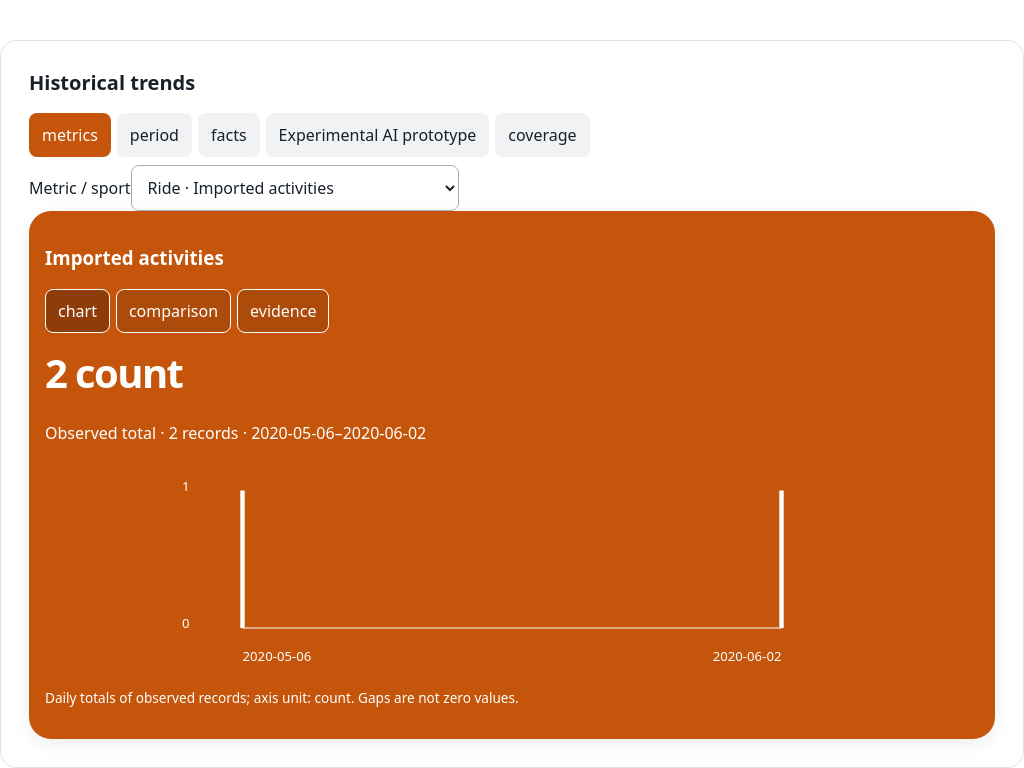
Test: factual private trends › compact tabs page metrics and every evidence record without initiating model work
Select "Wellness · Weight" in the dropdown labelled "Metric / sport" at (295, 188), box left=131, top=165, right=459, bottom=211
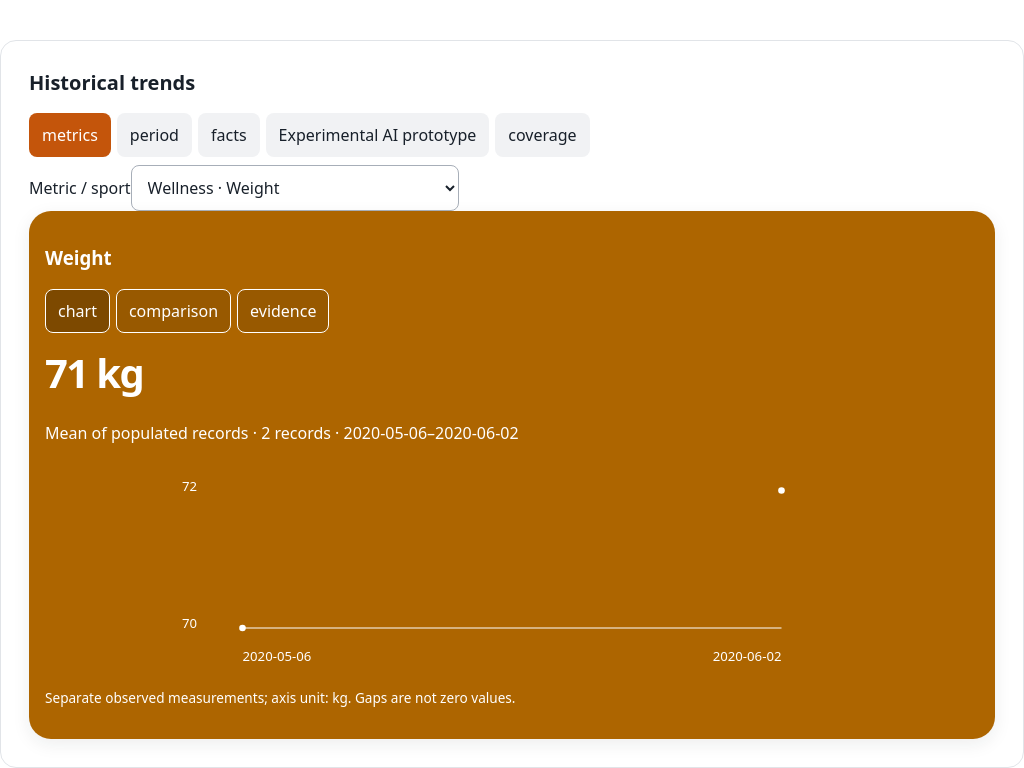
Now the text "71 kg" is shown, box left=45, top=345, right=143, bottom=400
Click the button "evidence" at (283, 311), box left=237, top=289, right=329, bottom=333
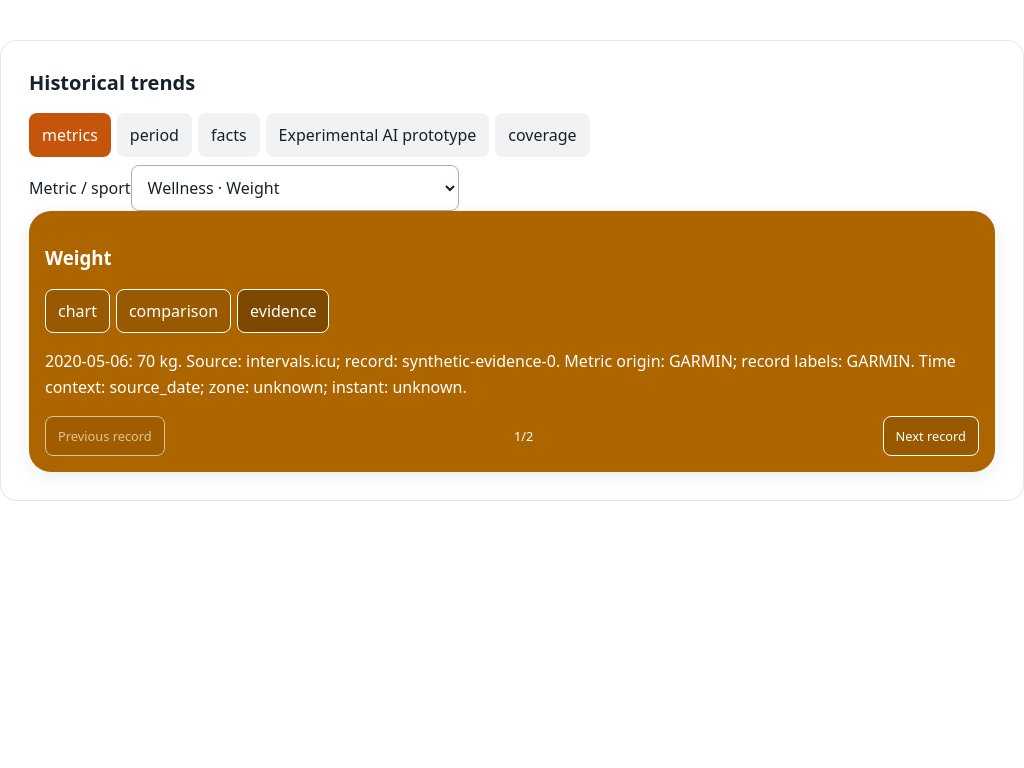
Expected: the text "synthetic-evidence-1" is not shown
Now the text "synthetic-evidence-0" is shown, box left=45, top=350, right=960, bottom=398
Click the button "Next record" at (931, 436), box left=882, top=416, right=979, bottom=456
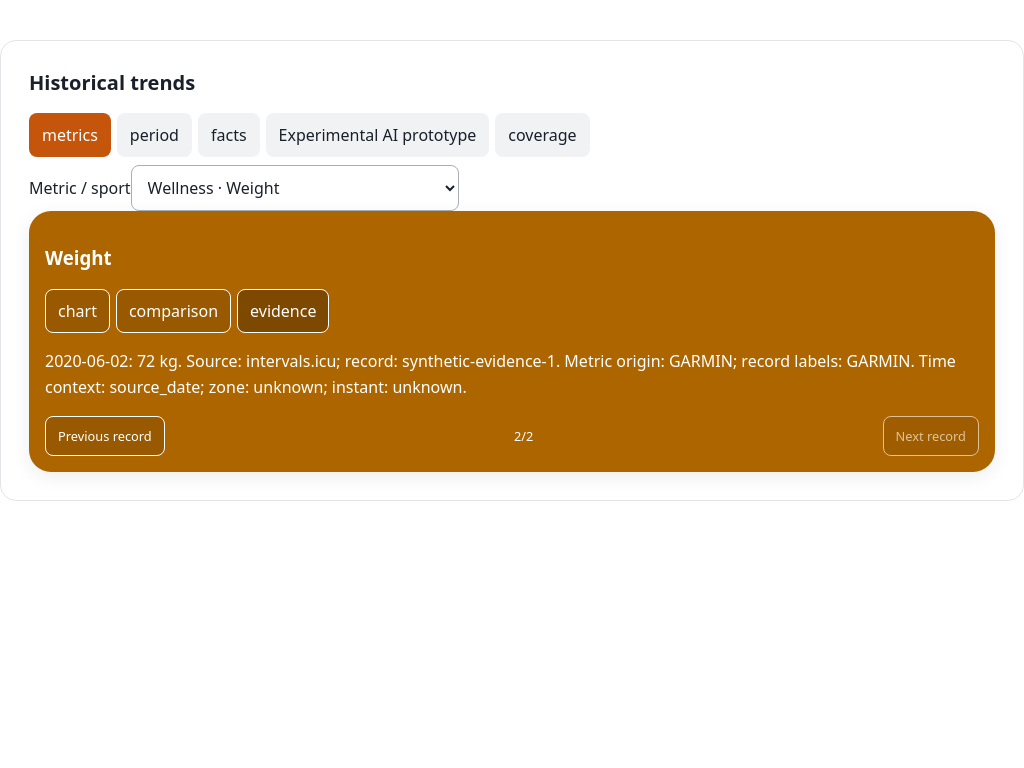
Now the text "synthetic-evidence-1" is shown, box left=45, top=350, right=960, bottom=398
Now the button "Next record" is disabled, box left=882, top=416, right=979, bottom=456
Click the button "period" at (154, 135), box left=117, top=113, right=192, bottom=157
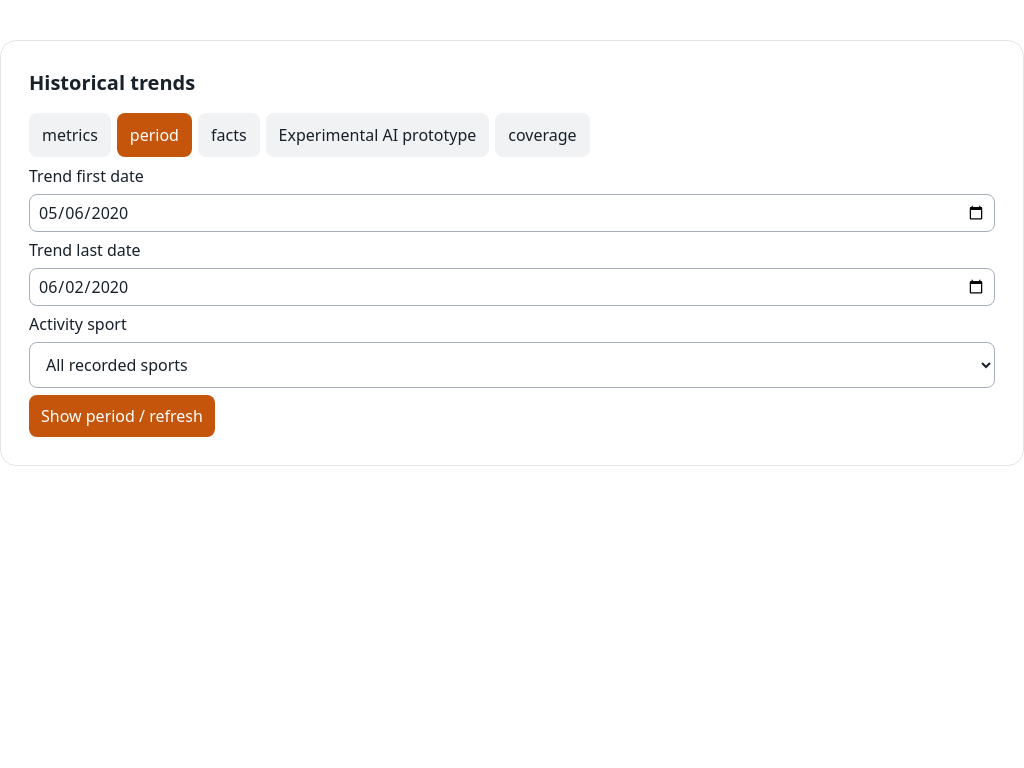
Now the date field labelled "Trend first date" is shown, box left=29, top=194, right=995, bottom=232
